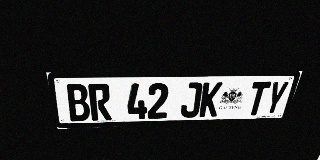2: (148, 83, 169, 119)
4: (127, 83, 148, 119)
B: (64, 84, 91, 121)
J: (180, 82, 203, 118)
K: (199, 82, 223, 117)
R: (88, 84, 112, 121)
T: (245, 81, 271, 115)
Y: (262, 81, 290, 115)
